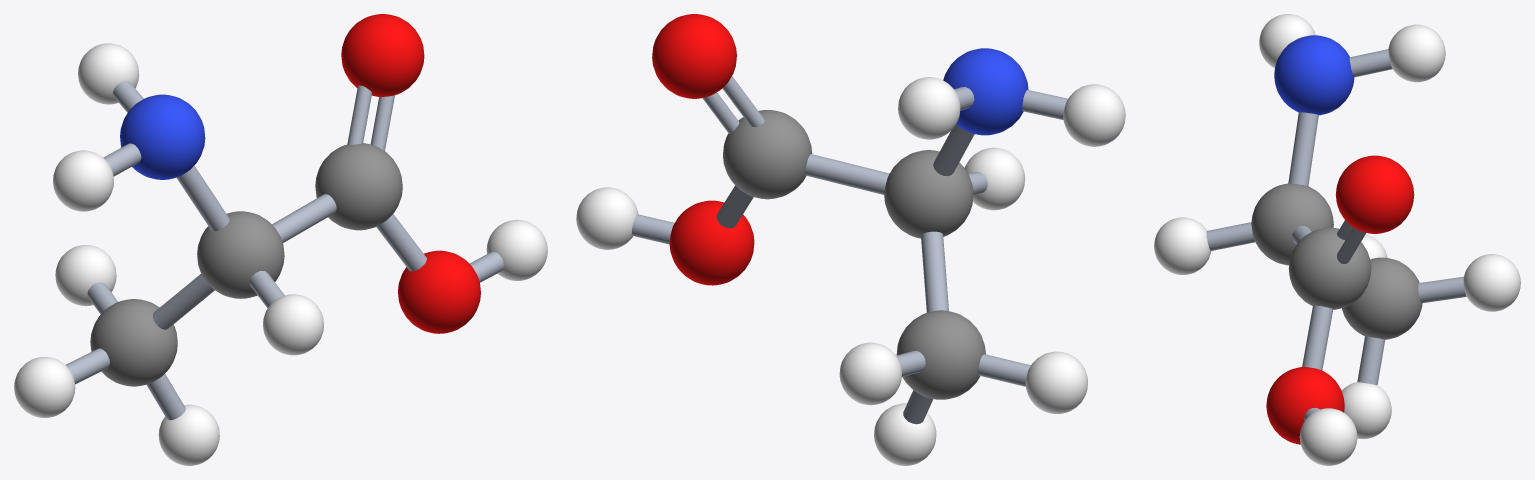
File: alanine.glb
3 renders of one model, left to right at view 1: azimuth 30°, elevation 25°; view 2: azimuth 150°, elevation 25°; view 3: azimuth 270°, elevation 25°, orthographic. The views are drawn at different scales.
Visible parts, largest first — view 1: H (×7), C (×3), bond (×13), O (×2), N; view 2: H (×7), C (×3), bond (×11), O (×2), N; view 3: H (×7), C (×3), O (×2), bond (×7), N.
Boxes of the visible parts, x1=… form: H (×7): x1=14, y1=43, x2=547, y2=465; C (×3): x1=90, y1=143, x2=402, y2=386; bond (×13): x1=66, y1=81, x2=503, y2=420; O (×2): x1=341, y1=14, x2=480, y2=333; N: x1=120, y1=94, x2=205, y2=179; H (×7): x1=576, y1=77, x2=1125, y2=465; C (×3): x1=723, y1=110, x2=985, y2=399; bond (×11): x1=631, y1=76, x2=1067, y2=424; O (×2): x1=652, y1=14, x2=754, y2=285; N: x1=943, y1=48, x2=1028, y2=135; H (×7): x1=1154, y1=14, x2=1520, y2=465; C (×3): x1=1251, y1=183, x2=1422, y2=339; O (×2): x1=1266, y1=155, x2=1414, y2=444; bond (×7): x1=1206, y1=49, x2=1466, y2=385; N: x1=1274, y1=35, x2=1354, y2=115.
Size of the model in its own units: 0.22 by 0.1687 by 0.1457.
